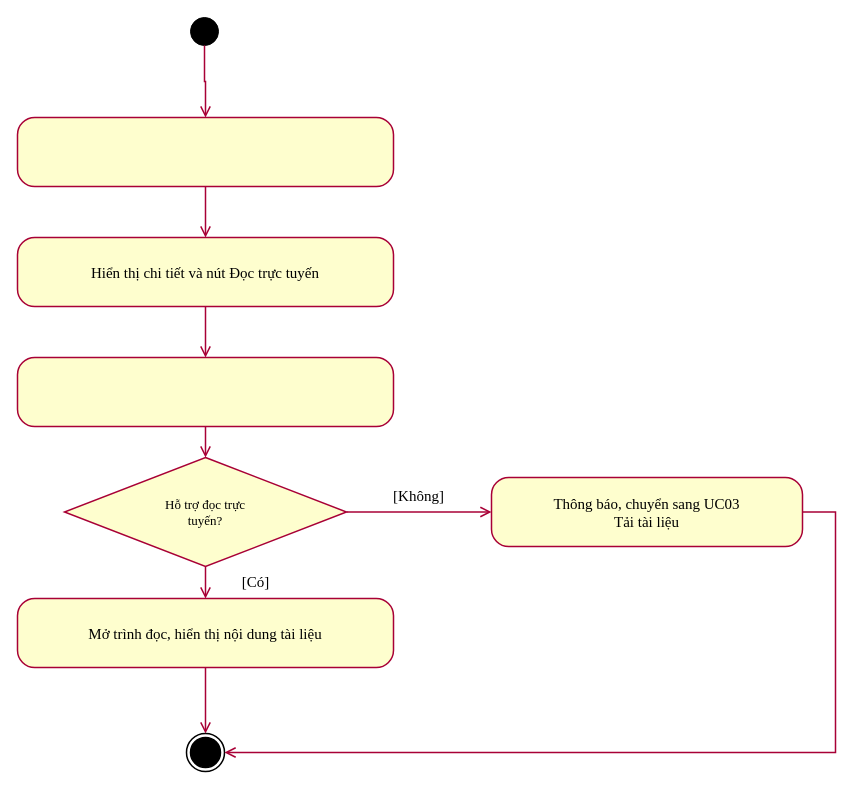
This 864x790 diagram has some shape labels left out. Each missing label, with the centre of its shape:
"Chọn tài liệu điện tử từ danh sách kết quả" belongs at [205,151].
"Nhấn Đọc trực tuyến" belongs at [205,391].
